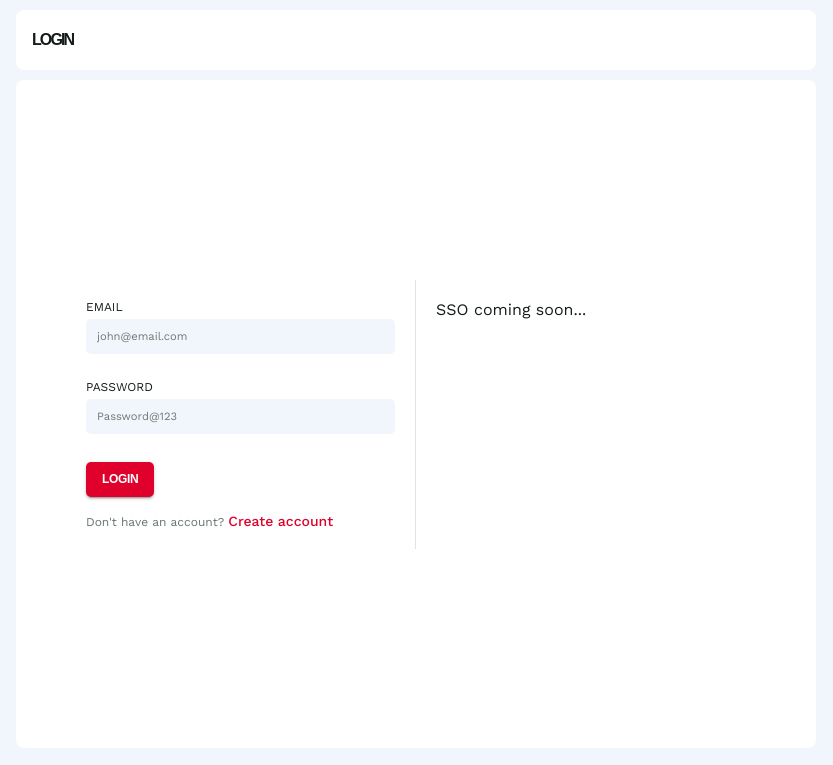
Test: LoginPage › email validation › shows error for invalid email
The width and height of the screenshot is (833, 765).
Step 1. Type "invalid-email" into the field with placeholder "john@email.com" → [240, 336], box [86,318,395,354]
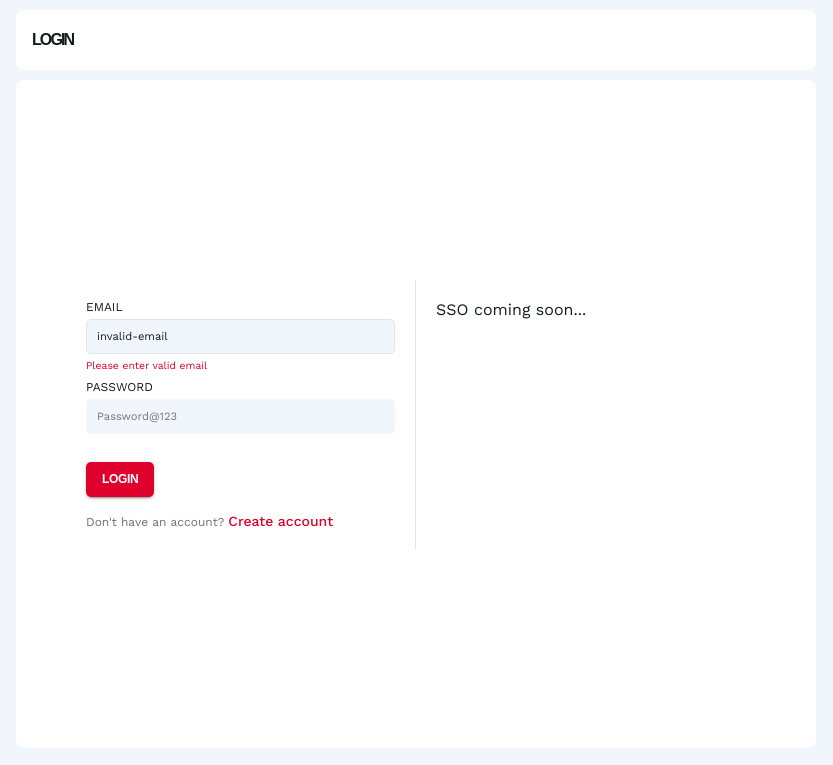
Now the text "Please enter valid email" is shown, box [86,358,207,372]
